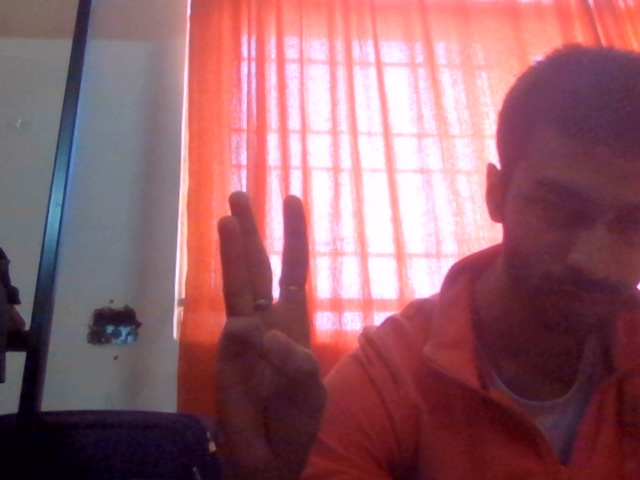W: (151, 157, 368, 468)
